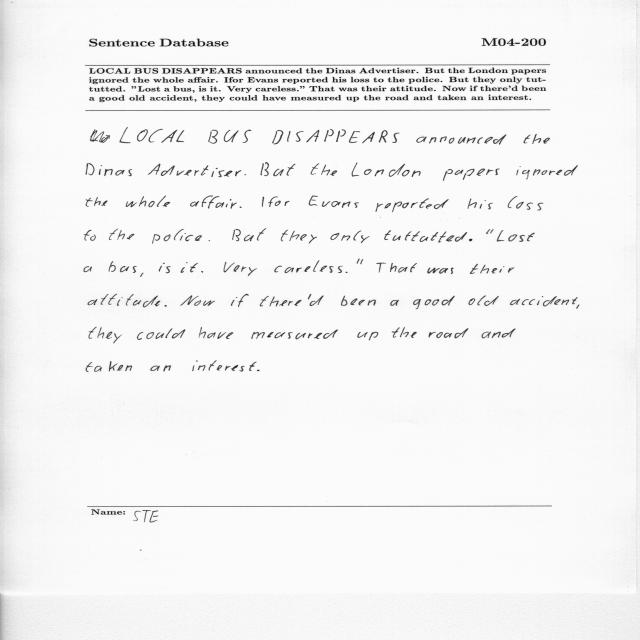word: (272, 129, 399, 145), (91, 128, 184, 144), (148, 164, 241, 177), (384, 230, 467, 243), (352, 162, 421, 177), (376, 199, 449, 212), (88, 294, 160, 307), (516, 165, 578, 180), (416, 135, 507, 145), (274, 260, 343, 273), (251, 330, 338, 340), (152, 229, 202, 244), (443, 168, 500, 181), (192, 361, 257, 372), (510, 296, 577, 306), (190, 196, 237, 209), (209, 130, 252, 144), (309, 196, 359, 208), (86, 163, 132, 176), (137, 328, 185, 340), (413, 296, 455, 309), (89, 327, 122, 343), (86, 361, 132, 372), (508, 196, 544, 210), (281, 230, 317, 244), (261, 163, 296, 177), (126, 196, 170, 207), (223, 262, 257, 276), (331, 231, 370, 243), (497, 230, 535, 242), (232, 229, 266, 242), (470, 264, 514, 274), (429, 328, 469, 339), (260, 296, 302, 306), (377, 263, 418, 273), (199, 327, 233, 339), (180, 295, 215, 306), (341, 296, 376, 306), (468, 295, 499, 306), (482, 329, 516, 339), (311, 164, 337, 177), (109, 261, 137, 273), (262, 196, 289, 207), (467, 199, 493, 210), (109, 229, 134, 240), (392, 327, 417, 338), (523, 134, 550, 144), (231, 294, 249, 307), (87, 197, 108, 207), (180, 262, 198, 273), (308, 294, 323, 306), (358, 332, 379, 340), (427, 268, 454, 274), (84, 230, 96, 241), (150, 366, 171, 372), (159, 263, 171, 273), (390, 300, 399, 306), (84, 266, 92, 272), (486, 229, 493, 234), (357, 259, 363, 264), (140, 273, 144, 277), (577, 305, 580, 309), (469, 239, 472, 241), (164, 305, 167, 307), (240, 206, 242, 208), (201, 271, 203, 273), (345, 272, 348, 273), (244, 174, 246, 175), (208, 240, 210, 241), (257, 370, 259, 371)
